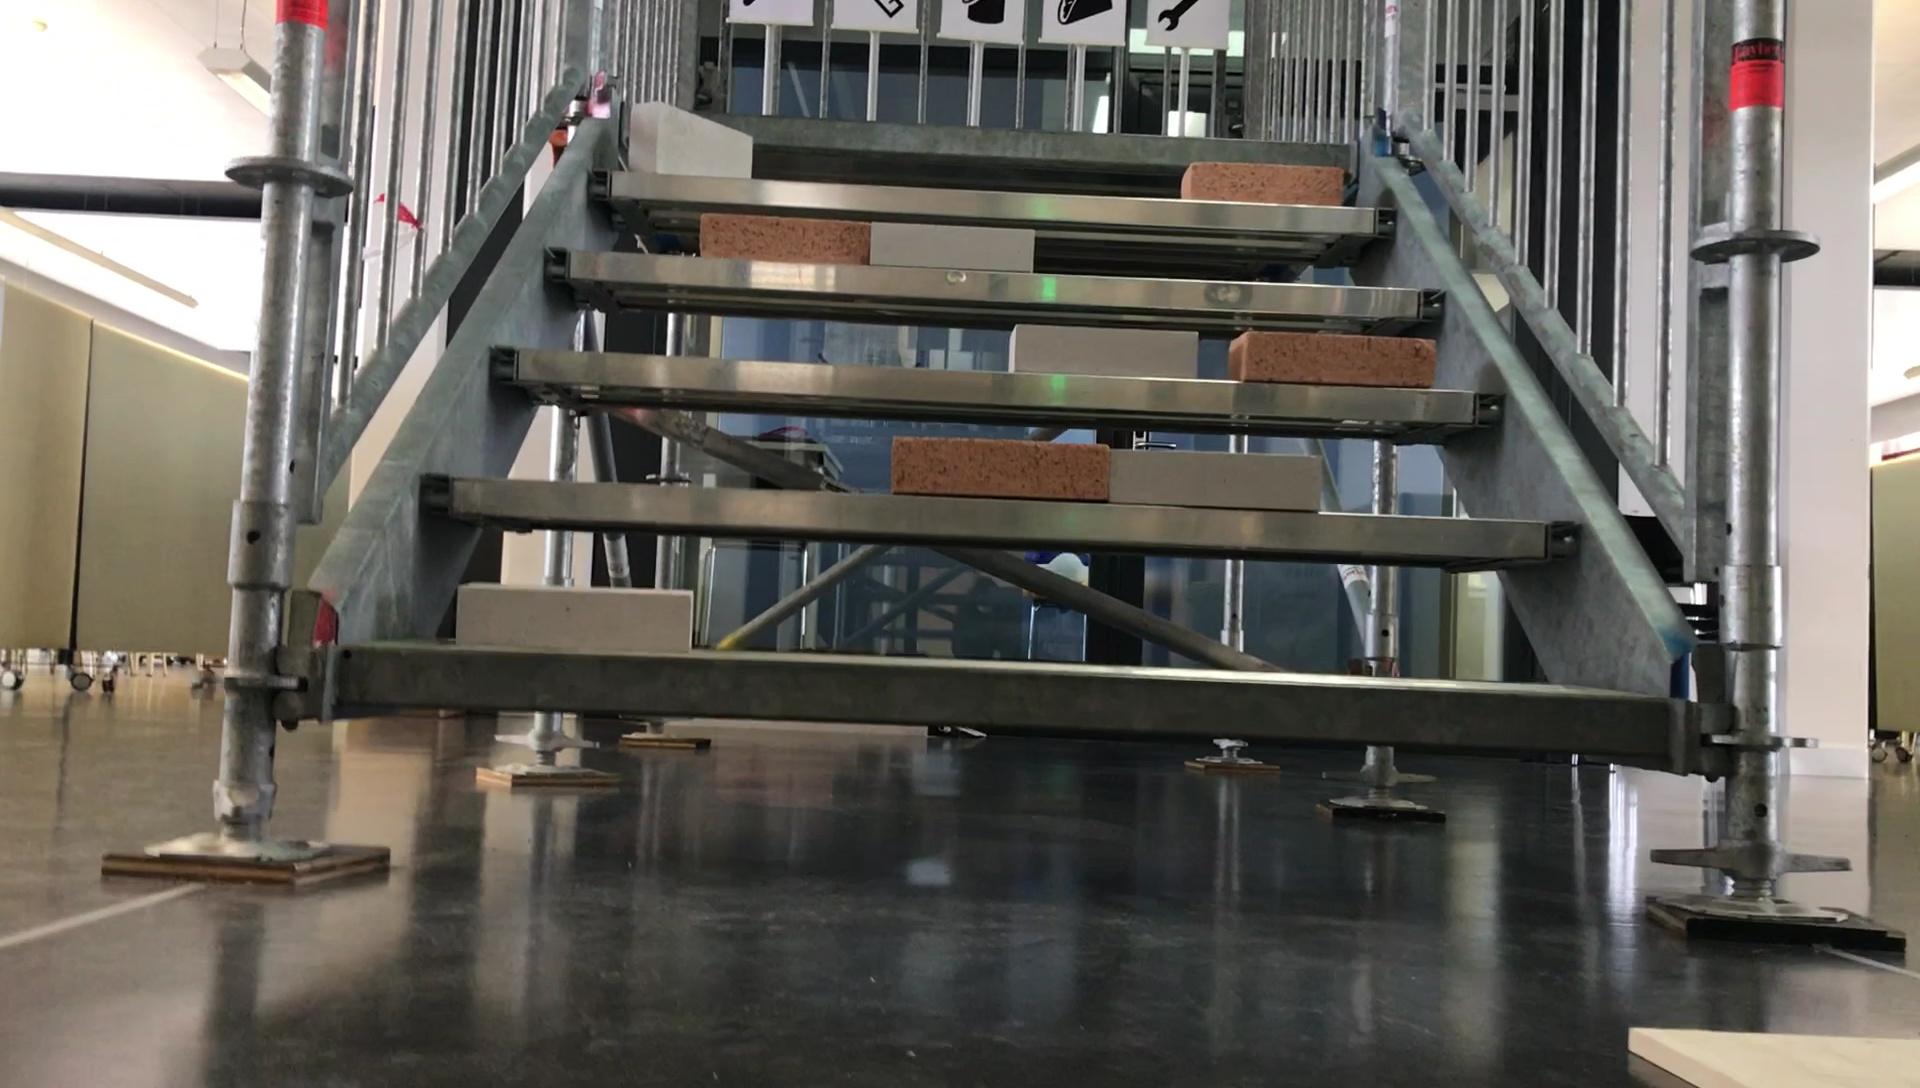brick: (458, 583, 694, 650), (893, 437, 1108, 500), (1112, 447, 1320, 510), (1230, 332, 1433, 388), (1007, 326, 1197, 377), (632, 103, 750, 178), (700, 214, 868, 265), (872, 222, 1035, 270), (1182, 161, 1342, 204)
edge: (344, 644, 1665, 754), (415, 475, 1578, 558), (491, 349, 1505, 426), (541, 251, 1448, 323), (589, 171, 1400, 233)
stairs: (100, 5, 1909, 957)
steps: (338, 84, 1675, 793)
